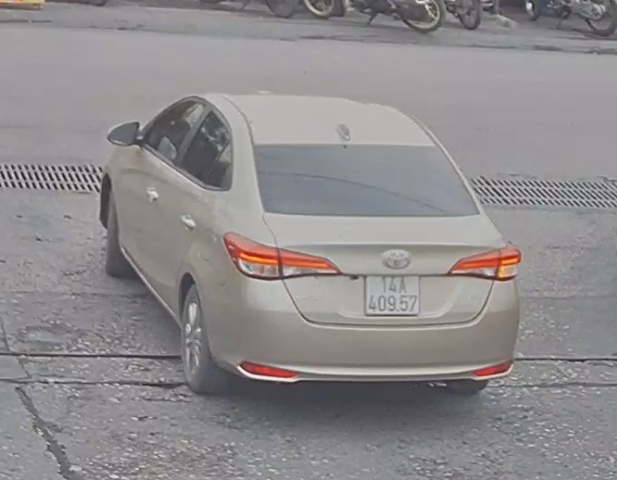vehicle plate: (362, 271, 420, 316)
